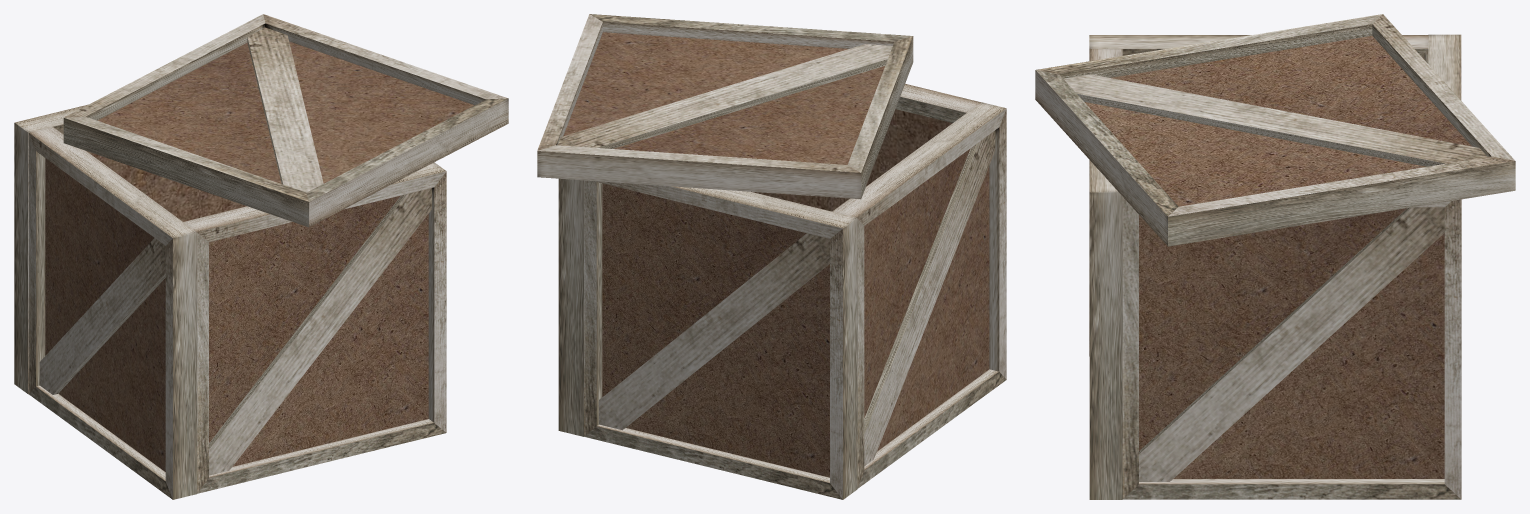
The model's file is crate_partial.fbx.
3 views of the same model, side by side, from view 1: azimuth 30°, elevation 25°; view 2: azimuth 150°, elevation 25°; view 3: azimuth 270°, elevation 25° (orthographic). The views are drawn at different scales.
Parts seen in each view (by area): view 1: CratePanel.002, CratePanel.005, CratePanel.001, CratePanel.000; view 2: CratePanel.000, CratePanel.005, CratePanel.001, CratePanel.003, CratePanel.002; view 3: CratePanel.003, CratePanel.005, CratePanel.002, CratePanel.001, CratePanel.000.
Part boxes in pixels (box(x1,y1,x2,y2)): CratePanel.002: box(183, 162, 446, 493); CratePanel.005: box(63, 14, 508, 227); CratePanel.001: box(29, 127, 197, 499); CratePanel.000: box(14, 104, 246, 394); CratePanel.000: box(584, 180, 857, 499); CratePanel.005: box(537, 14, 913, 199); CratePanel.001: box(832, 102, 1006, 488); CratePanel.003: box(558, 178, 583, 436); CratePanel.002: box(751, 83, 981, 211); CratePanel.003: box(1122, 197, 1461, 499); CratePanel.005: box(1035, 14, 1515, 246); CratePanel.002: box(1089, 48, 1122, 499); CratePanel.001: box(1089, 35, 1428, 356); CratePanel.000: box(1428, 34, 1461, 100).
Size of the model in its own units: 152 by 113 by 146.
1 material, 1 textured.
